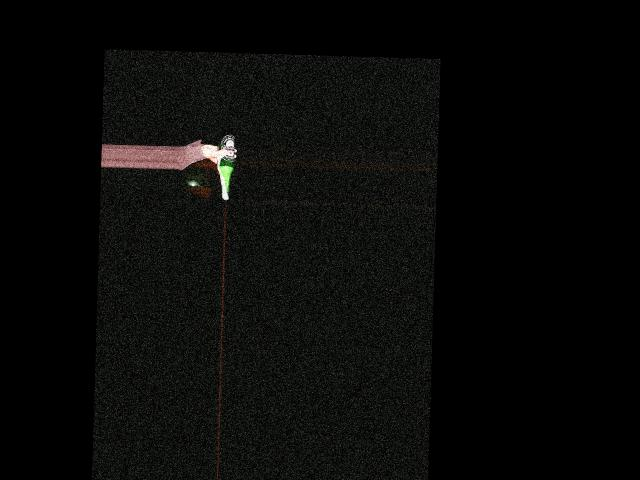beer: (216, 133, 236, 197)
